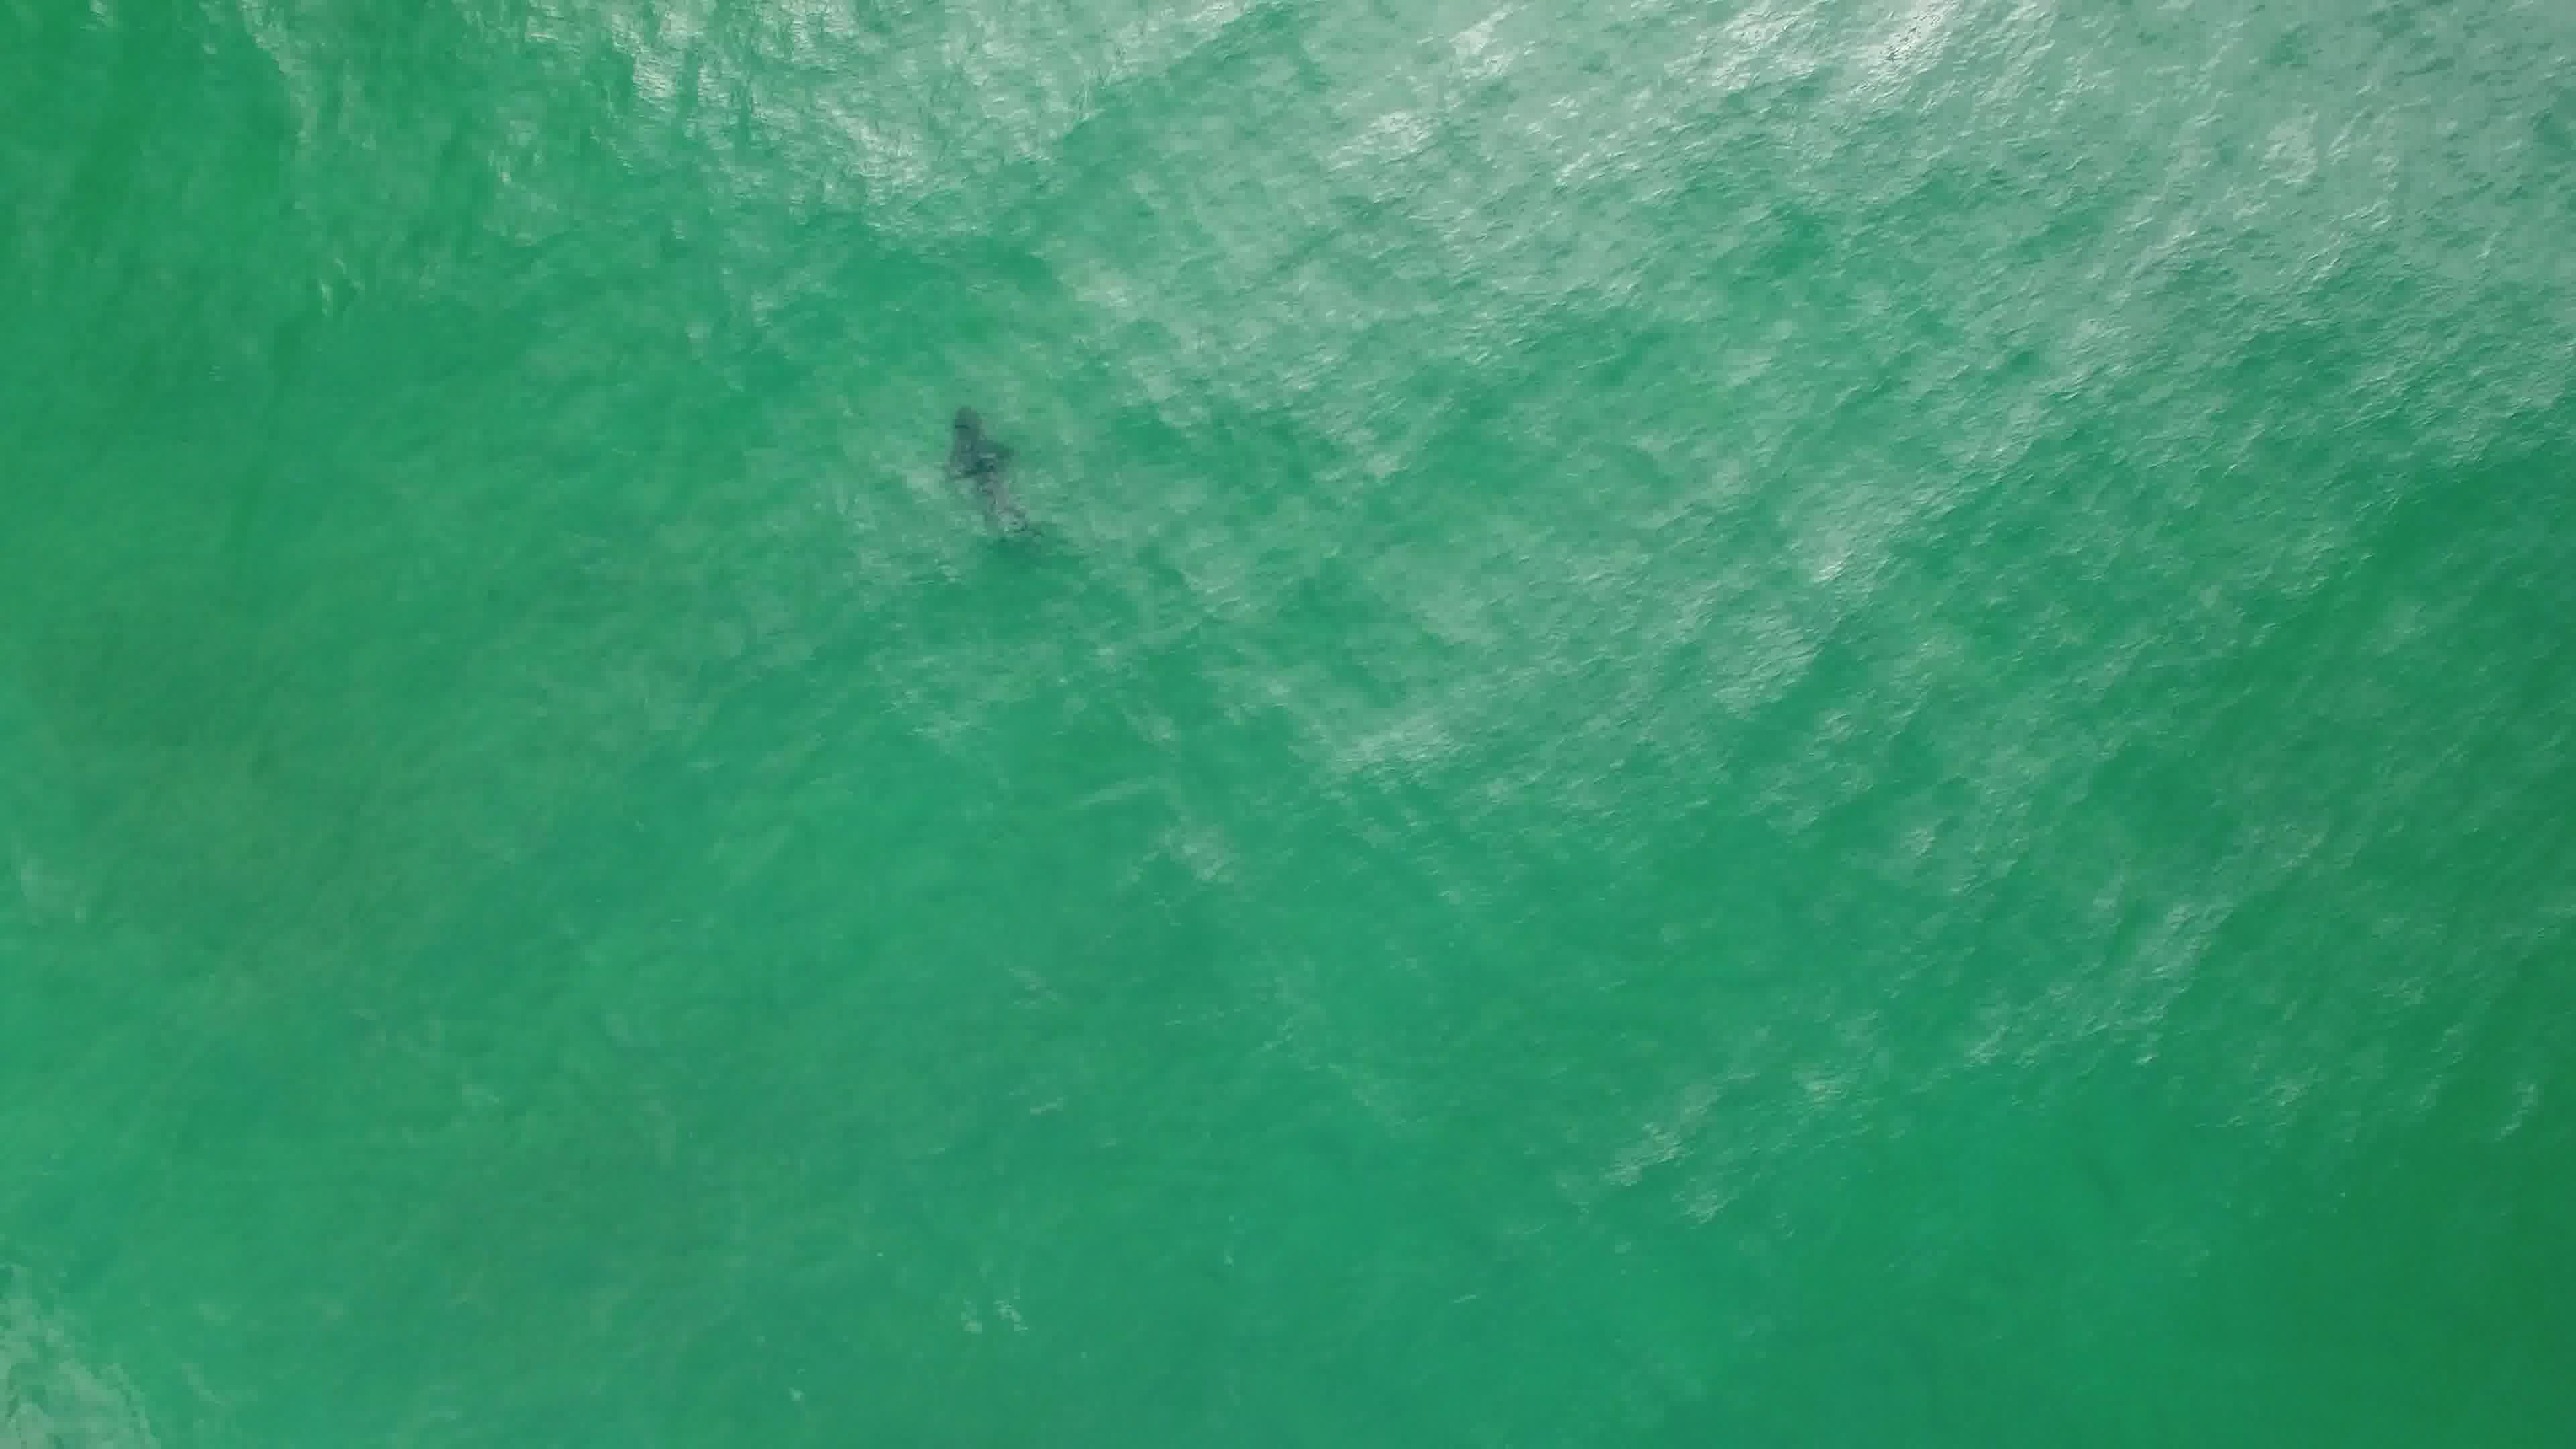shark: (927, 402, 1039, 550)
